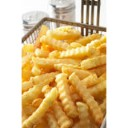frenchfries: (22, 19, 105, 128)
